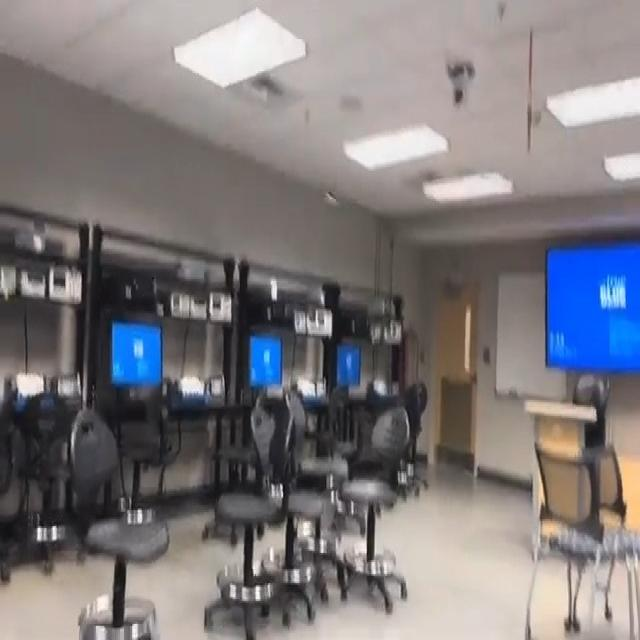drone: (318, 175, 348, 224)
